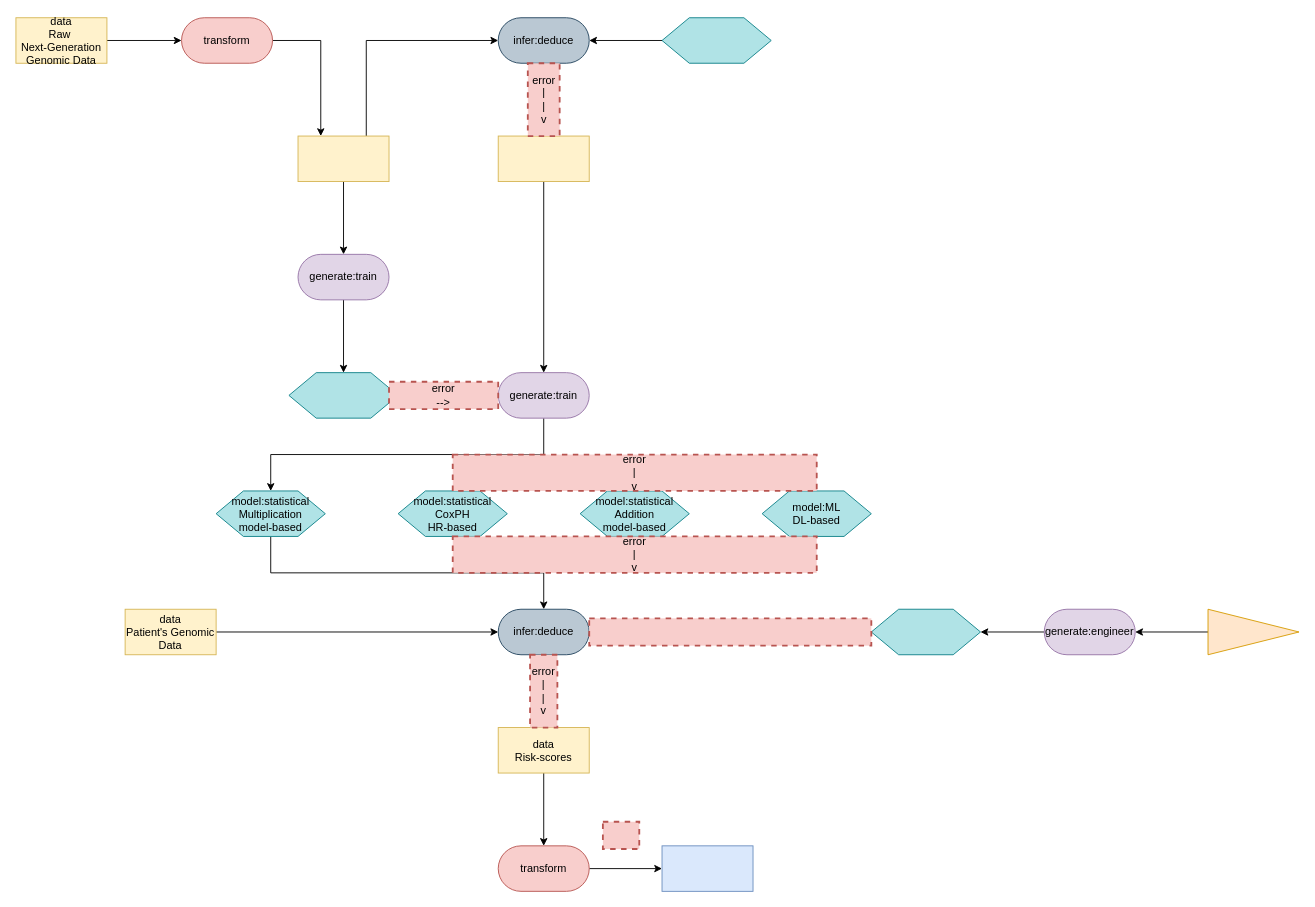
Some shapes in this 1315 by 907 pixel diagram are drawn without their labels. The centre of each missing label's shape, as x and y in pixels:
actor Experts: point (1253, 631)
data Cleaned Data: point (343, 158)
data:numeric HR-Values: point (543, 158)
error: point (621, 834)
error <--: point (730, 631)
model:ML Abstracted Weights: point (343, 395)
model:semantic Fuzzy Rules: point (925, 631)
model:statistical CoxPH: point (716, 40)
symbol Clinical Implications: point (707, 868)
